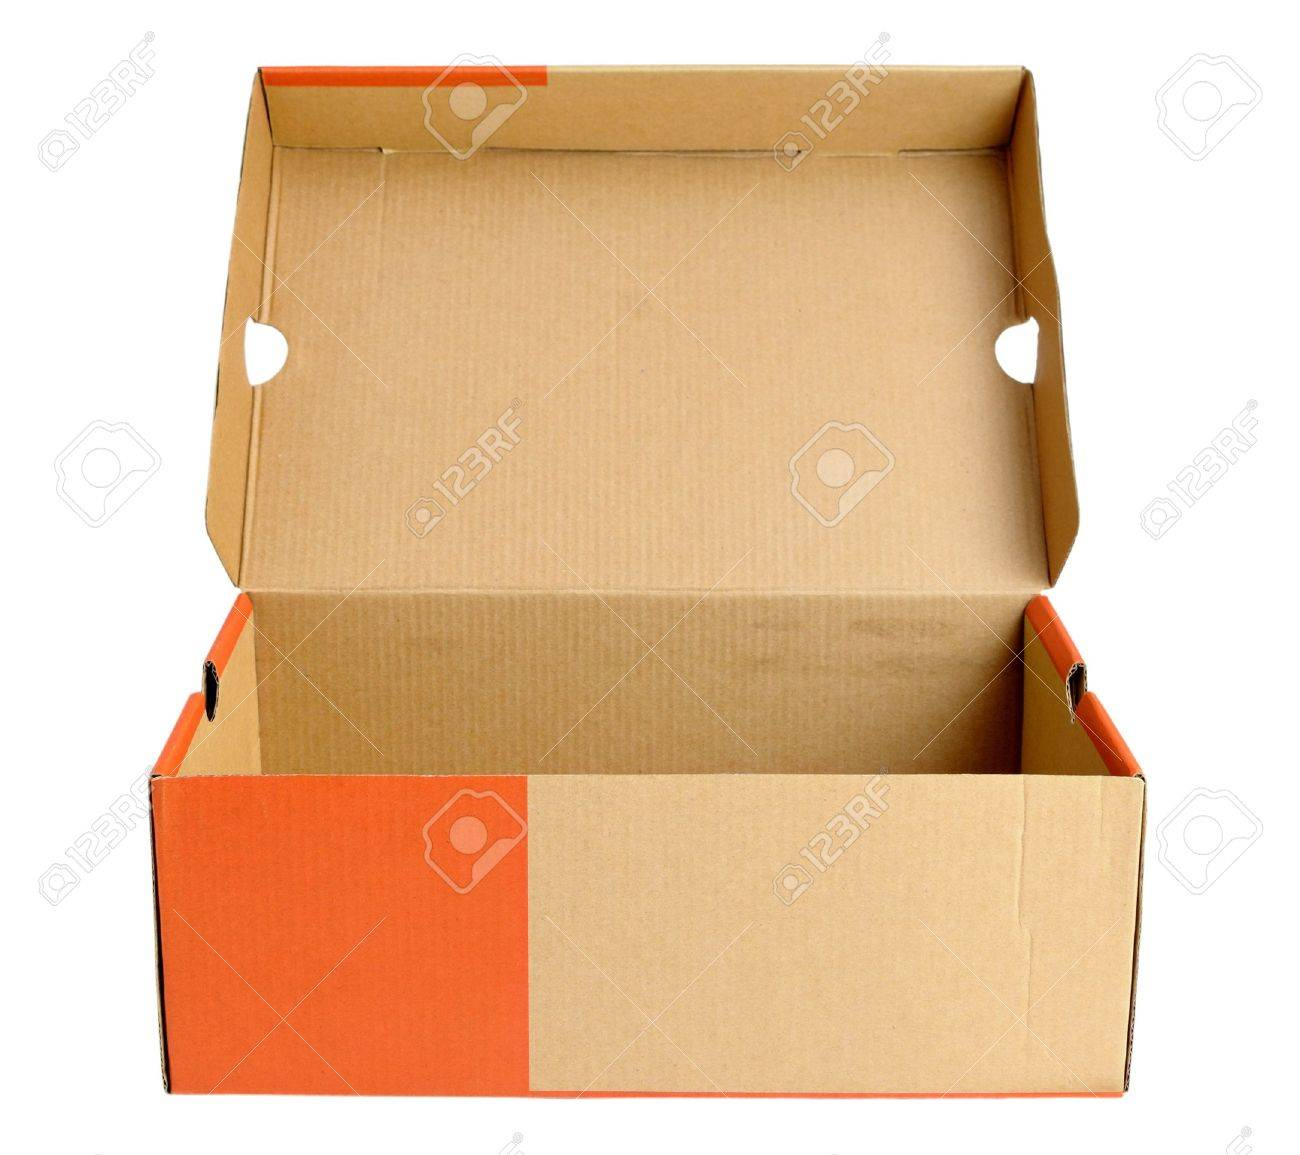Rec_Paper: (103, 1, 1176, 1089)
